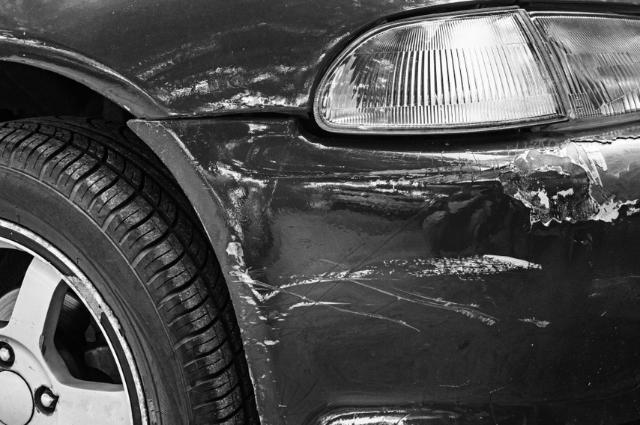Bumper: (163, 136, 640, 384)
